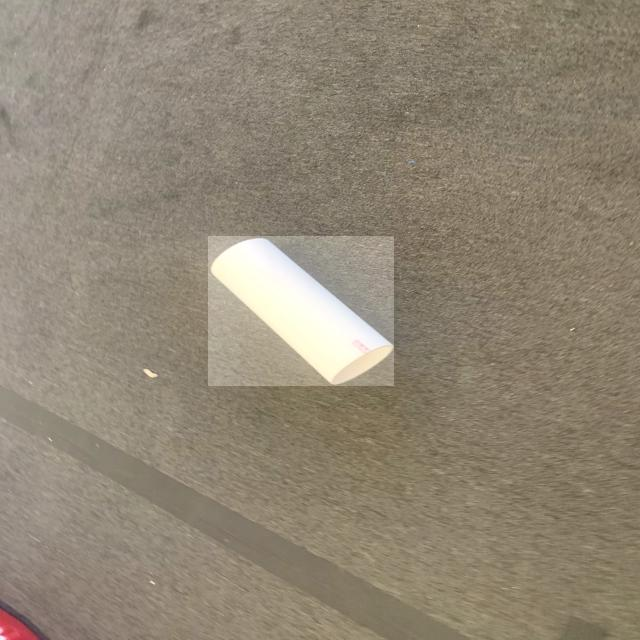Coral: (208, 236, 394, 386)
